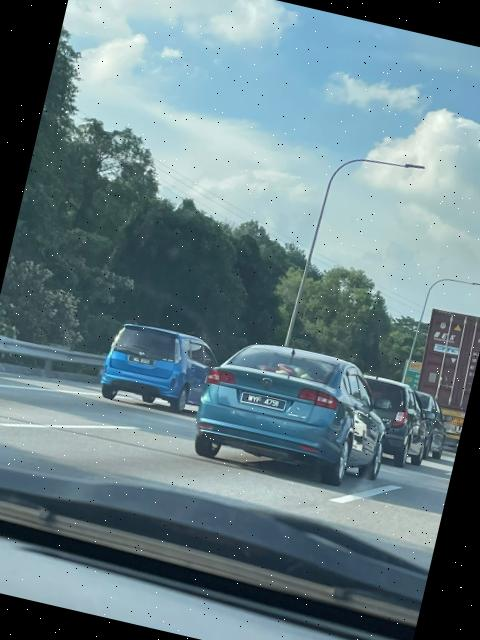License_Plate: (240, 388, 289, 415)
